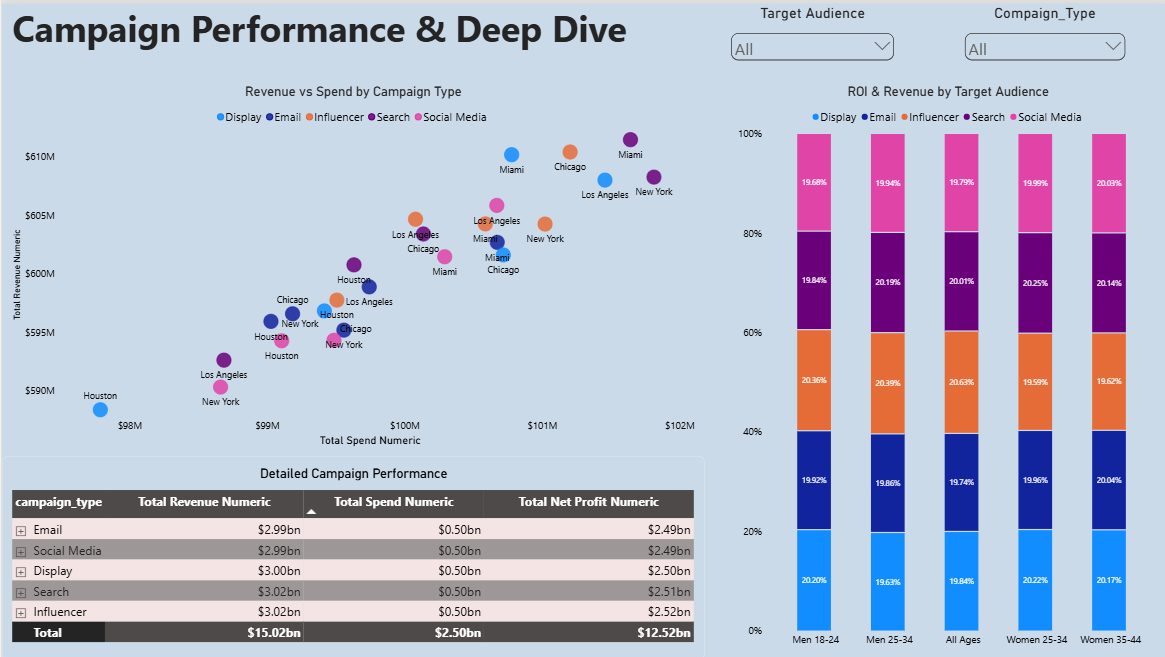

This screenshot's page, from the dashboard's own definition file:
{"tool":"powerbi","page":{"name":"Campaign Performance & Deep Dive","canvas":[1920,1080],"ordinal":1},"visuals":[{"type":"textbox","box":[0,0,1045.4,98.9],"z":0},{"type":"slicer","title":"Compaign_Type","fields":{"Values":["public marketing_campaigns.campaign_type"]},"box":[1580.8,0,273.4,98.9],"z":2000},{"type":"slicer","title":"Target Audience","fields":{"Values":["public marketing_campaigns.target_audience"]},"box":[1195.9,0,277.9,98.8],"z":3000},{"type":"scatterChart","title":"Revenue vs Spend by Campaign Type","fields":{"X":["_All_Measures.Total Spend Numeric"],"Y":["_All_Measures.Total Revenue Numeric"],"Category":["public marketing_campaigns.location"],"Series":["public marketing_campaigns.campaign_type"],"Size":["_All_Measures.Average ROI Numeric"]},"box":[0,117.3,1156.8,627.8],"z":7000},{"type":"hundredPercentStackedColumnChart","title":"ROI & Revenue by Target Audience","fields":{"Category":["public marketing_campaigns.target_audience"],"Y":["_All_Measures.Total Revenue Numeric"],"Series":["public marketing_campaigns.campaign_type"]},"box":[1195.9,117.3,724.5,961.2],"z":8000},{"type":"pivotTable","title":"Detailed Campaign Performance","fields":{"Rows":["public marketing_campaigns.campaign_type","public marketing_campaigns.channel_used"],"Values":["_All_Measures.Total Revenue Numeric","_All_Measures.Total Spend Numeric","_All_Measures.Total Net Profit Numeric"]},"box":[0,745.1,1156.8,335.5],"z":9000}]}

Visuals, with their boxes in screenshot pixels (x1, y1, x2, y2), scaled from the page's 1920x1080 canvas onto the 1165x657 screenshot:
textbox: region(0, 0, 634, 60)
"Compaign_Type" slicer: region(959, 0, 1125, 60)
"Target Audience" slicer: region(726, 0, 894, 60)
"Revenue vs Spend by Campaign Type" scatterChart: region(0, 71, 702, 453)
"ROI & Revenue by Target Audience" hundredPercentStackedColumnChart: region(726, 71, 1164, 656)
"Detailed Campaign Performance" pivotTable: region(0, 453, 702, 656)
